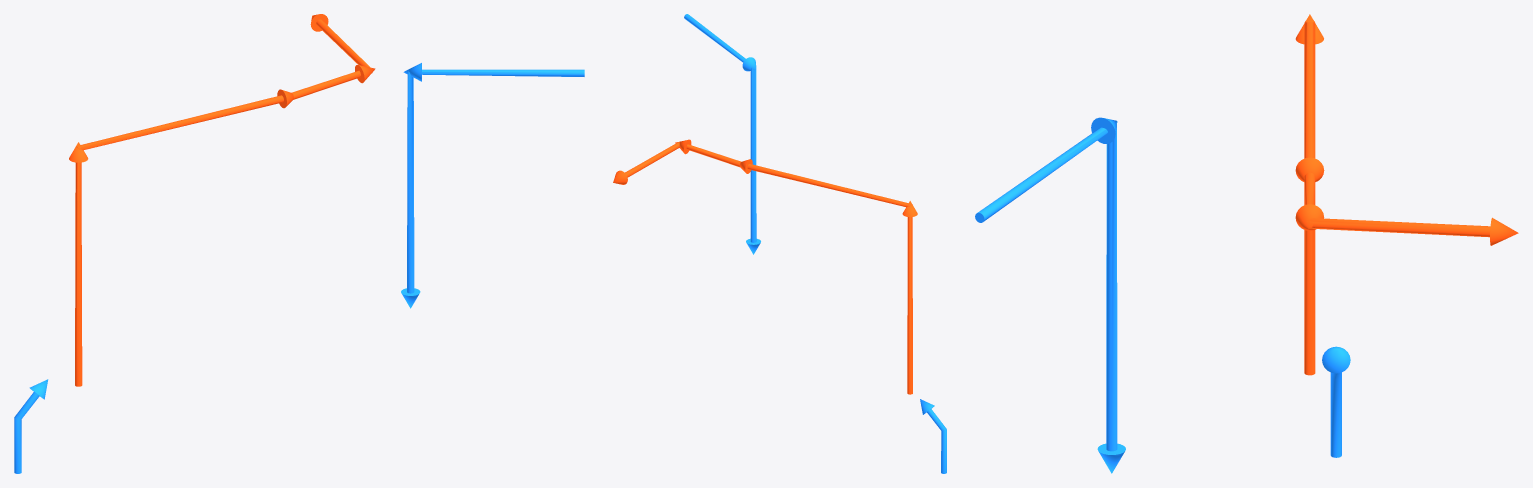
File: hydraulic_power_pack_pump_flow.glb
The picture shows the model from 3 angles, left to right: view 1: azimuth 30°, elevation 25°; view 2: azimuth 150°, elevation 25°; view 3: azimuth 270°, elevation 25°; orthographic projection. The views are drawn at different scales.
Parts seen in each view (by area): view 1: flow_pressure, flow_return, flow_suction; view 2: flow_pressure, flow_return, flow_suction; view 3: flow_pressure, flow_return, flow_suction.
Boxes of the visible parts, x1,y1,x2,y2 form: flow_pressure: (69,14,375,386); flow_return: (401,63,584,308); flow_suction: (14,379,48,473); flow_pressure: (613,139,917,394); flow_return: (684,14,760,254); flow_suction: (920,399,946,473); flow_pressure: (1295,14,1518,375); flow_return: (975,117,1125,473); flow_suction: (1322,346,1350,457).
Size of the model in its own units: 0.6976 by 0.573 by 0.4942.
